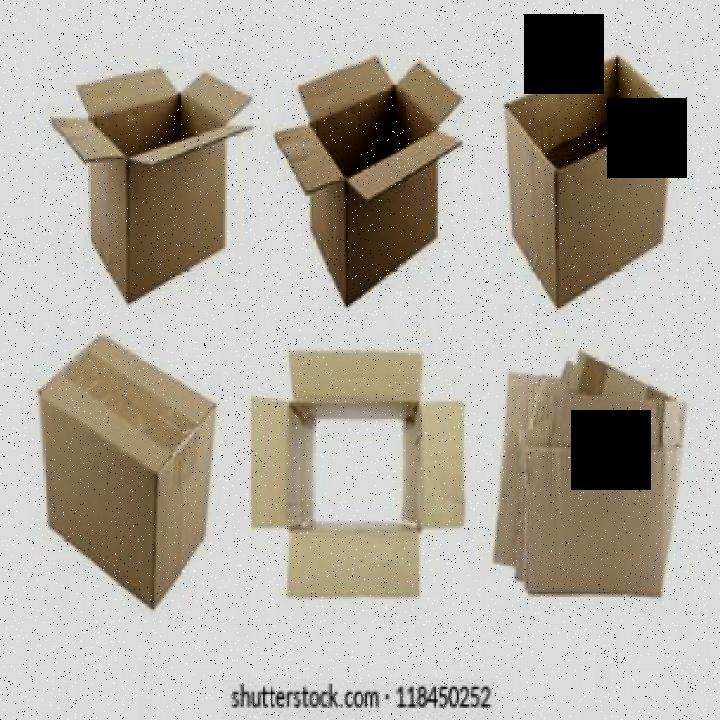box: (236, 345, 470, 610), (485, 333, 695, 614), (46, 42, 257, 316), (268, 40, 469, 313), (34, 334, 219, 621), (494, 48, 683, 314)
